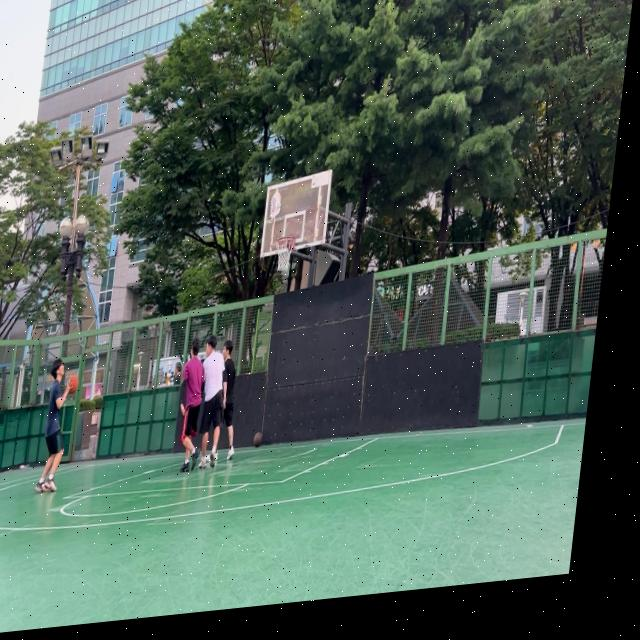basketball: (66, 375, 79, 395)
hoop: (273, 235, 296, 273)
